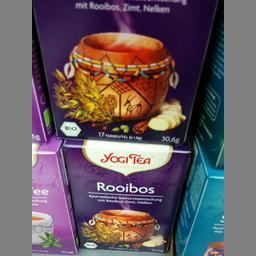tea: (32, 0, 217, 142), (61, 138, 192, 255)
